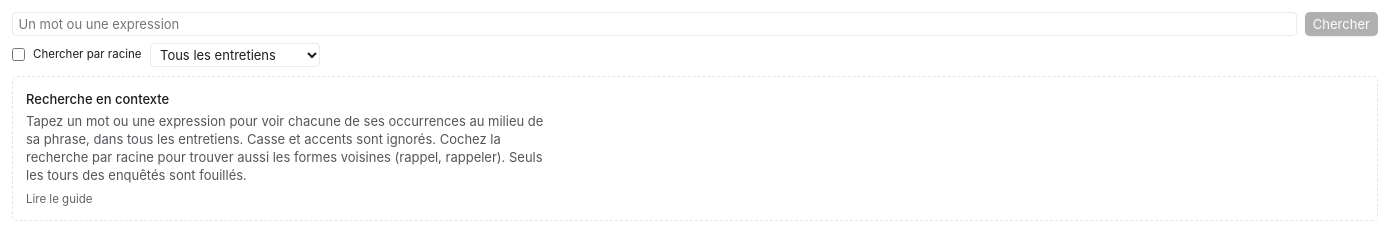
Test case: KwicSearch › searches by stem with an attribute filter and lists the occurrences
The image size is (1390, 238).
Type "rappel" into the field named "Mot ou expression à chercher".
click(654, 24); type("rappel")  # box [12,12,1297,36]
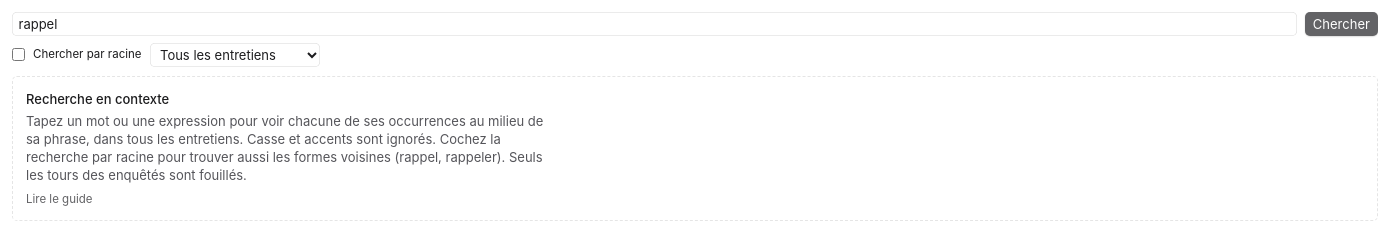
Click the checkbox labelled "Chercher par racine".
click(18, 54)  # box [12,48,25,61]
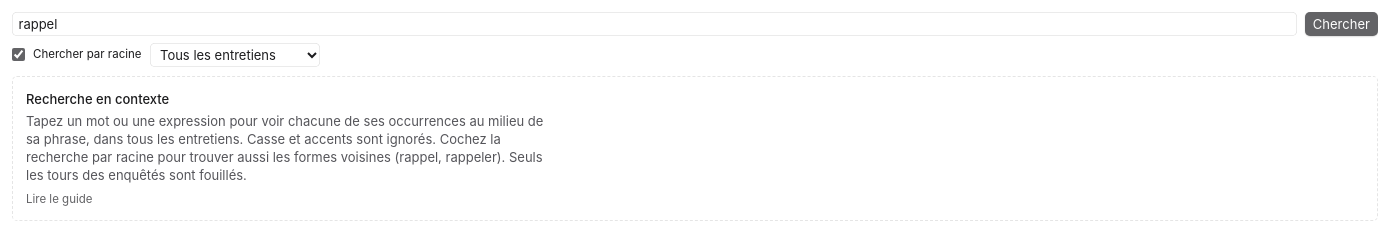
Select "Secteur" in the dropdown named "Filtrer sur un attribut" at (234, 54), box [150,42,320,66]
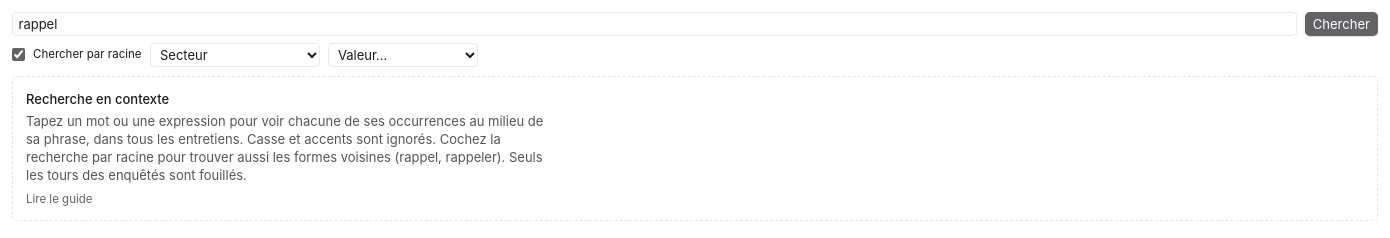
Select "Vin" in the dropdown named "Valeur de Secteur" at (402, 54), box [328,42,478,66]
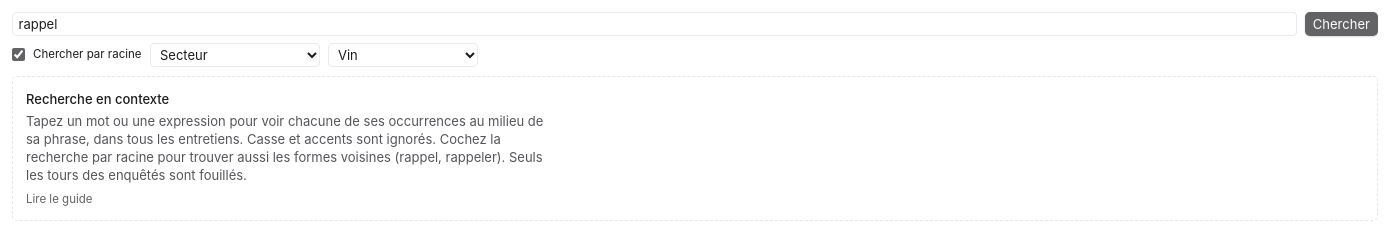
Click the button "Chercher".
click(1341, 24)  # box [1305,12,1378,36]
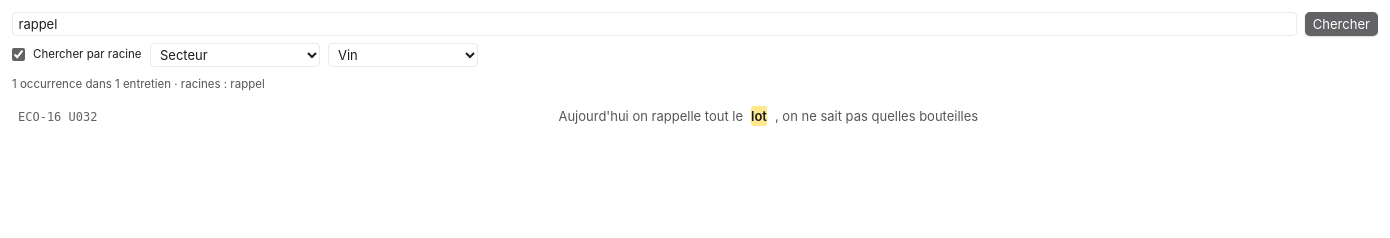
Expected: the text "1 occurrence dans 1 entretien · racines : rappel" is shown, [12,77,265,91]
Expected: the list item with test id "kwic-row" is shown, [18,106,978,126]
